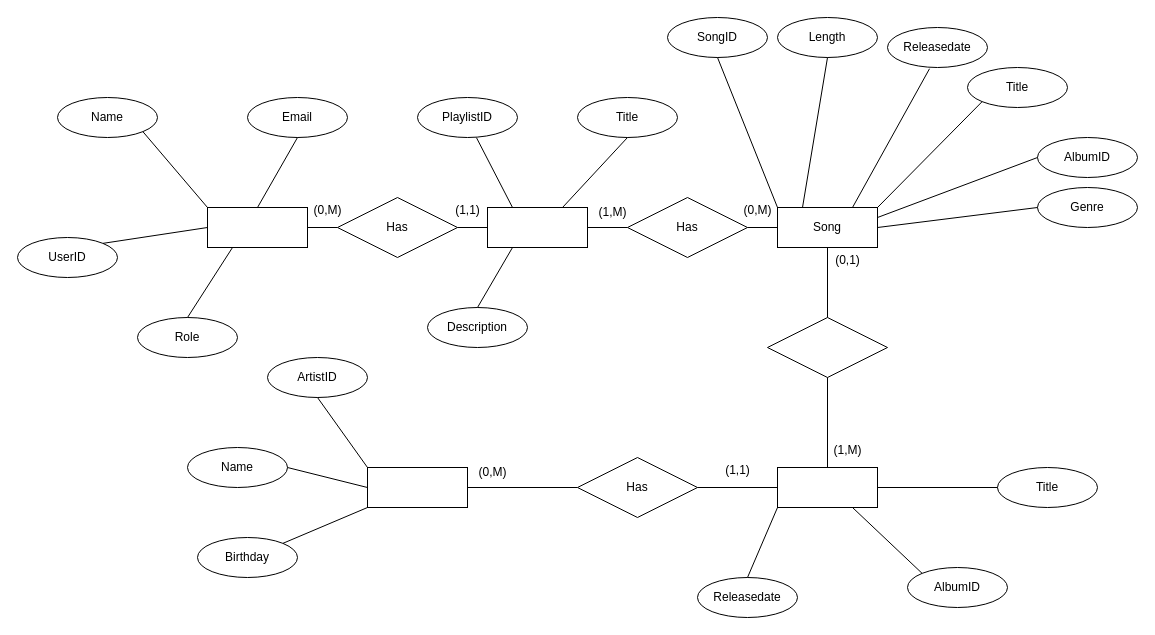
The diagram is 1155 pixels wide and 635 high, and some of its shapes have lost their labels. The box of each missing label's shape, as (x1, y1, x2, y2) in pixels:
Album: (776, 466, 878, 508)
Artist: (366, 466, 468, 508)
Belongs to: (766, 316, 888, 378)
Playlist: (486, 206, 588, 248)
User: (206, 206, 308, 248)
